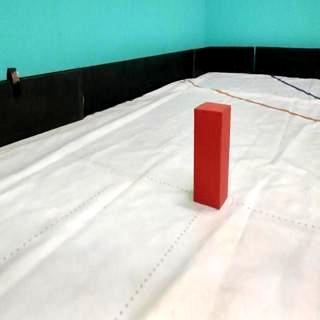redbox: (193, 101, 230, 210)
